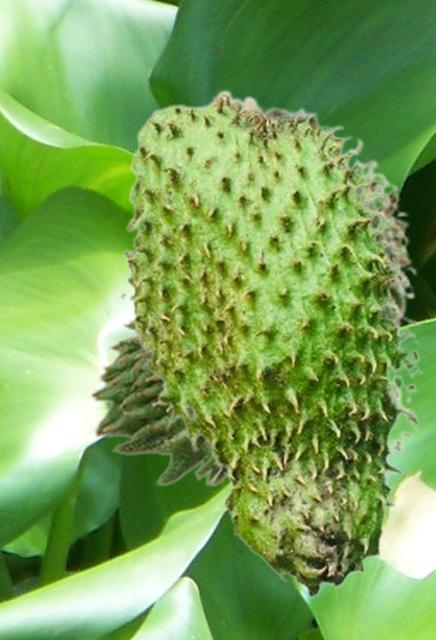guyabano: (118, 88, 424, 598), (87, 182, 412, 486)
